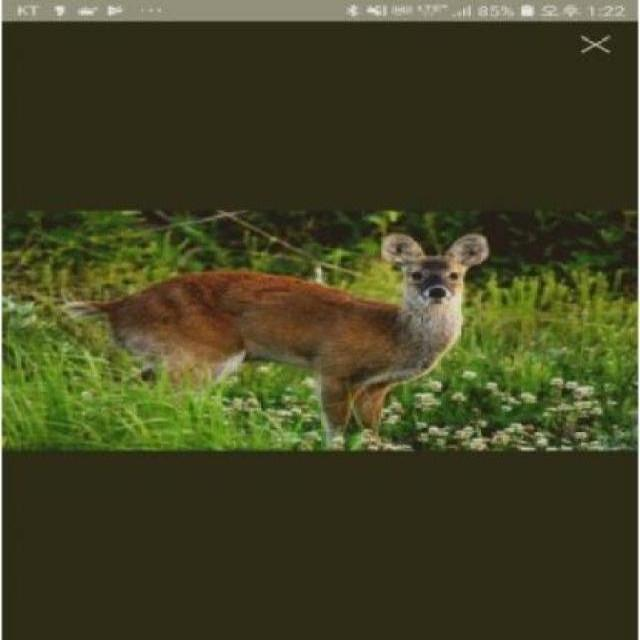deer: (51, 221, 518, 448)
